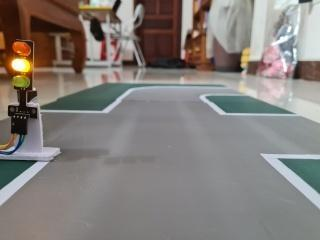yellow: (1, 31, 45, 105)
